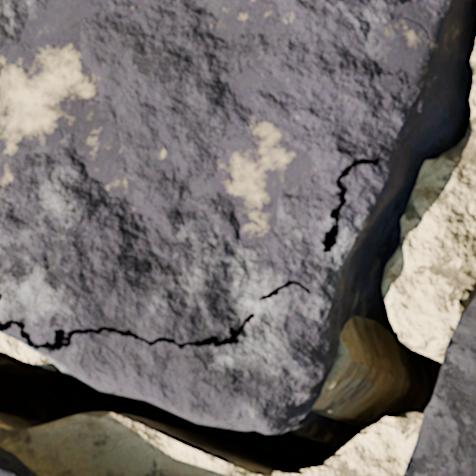brick: (0, 0, 461, 432), (404, 299, 475, 475), (0, 448, 34, 475), (4, 325, 26, 344)
crack: (0, 0, 475, 475), (0, 312, 255, 351), (467, 284, 475, 306), (0, 292, 2, 301)
